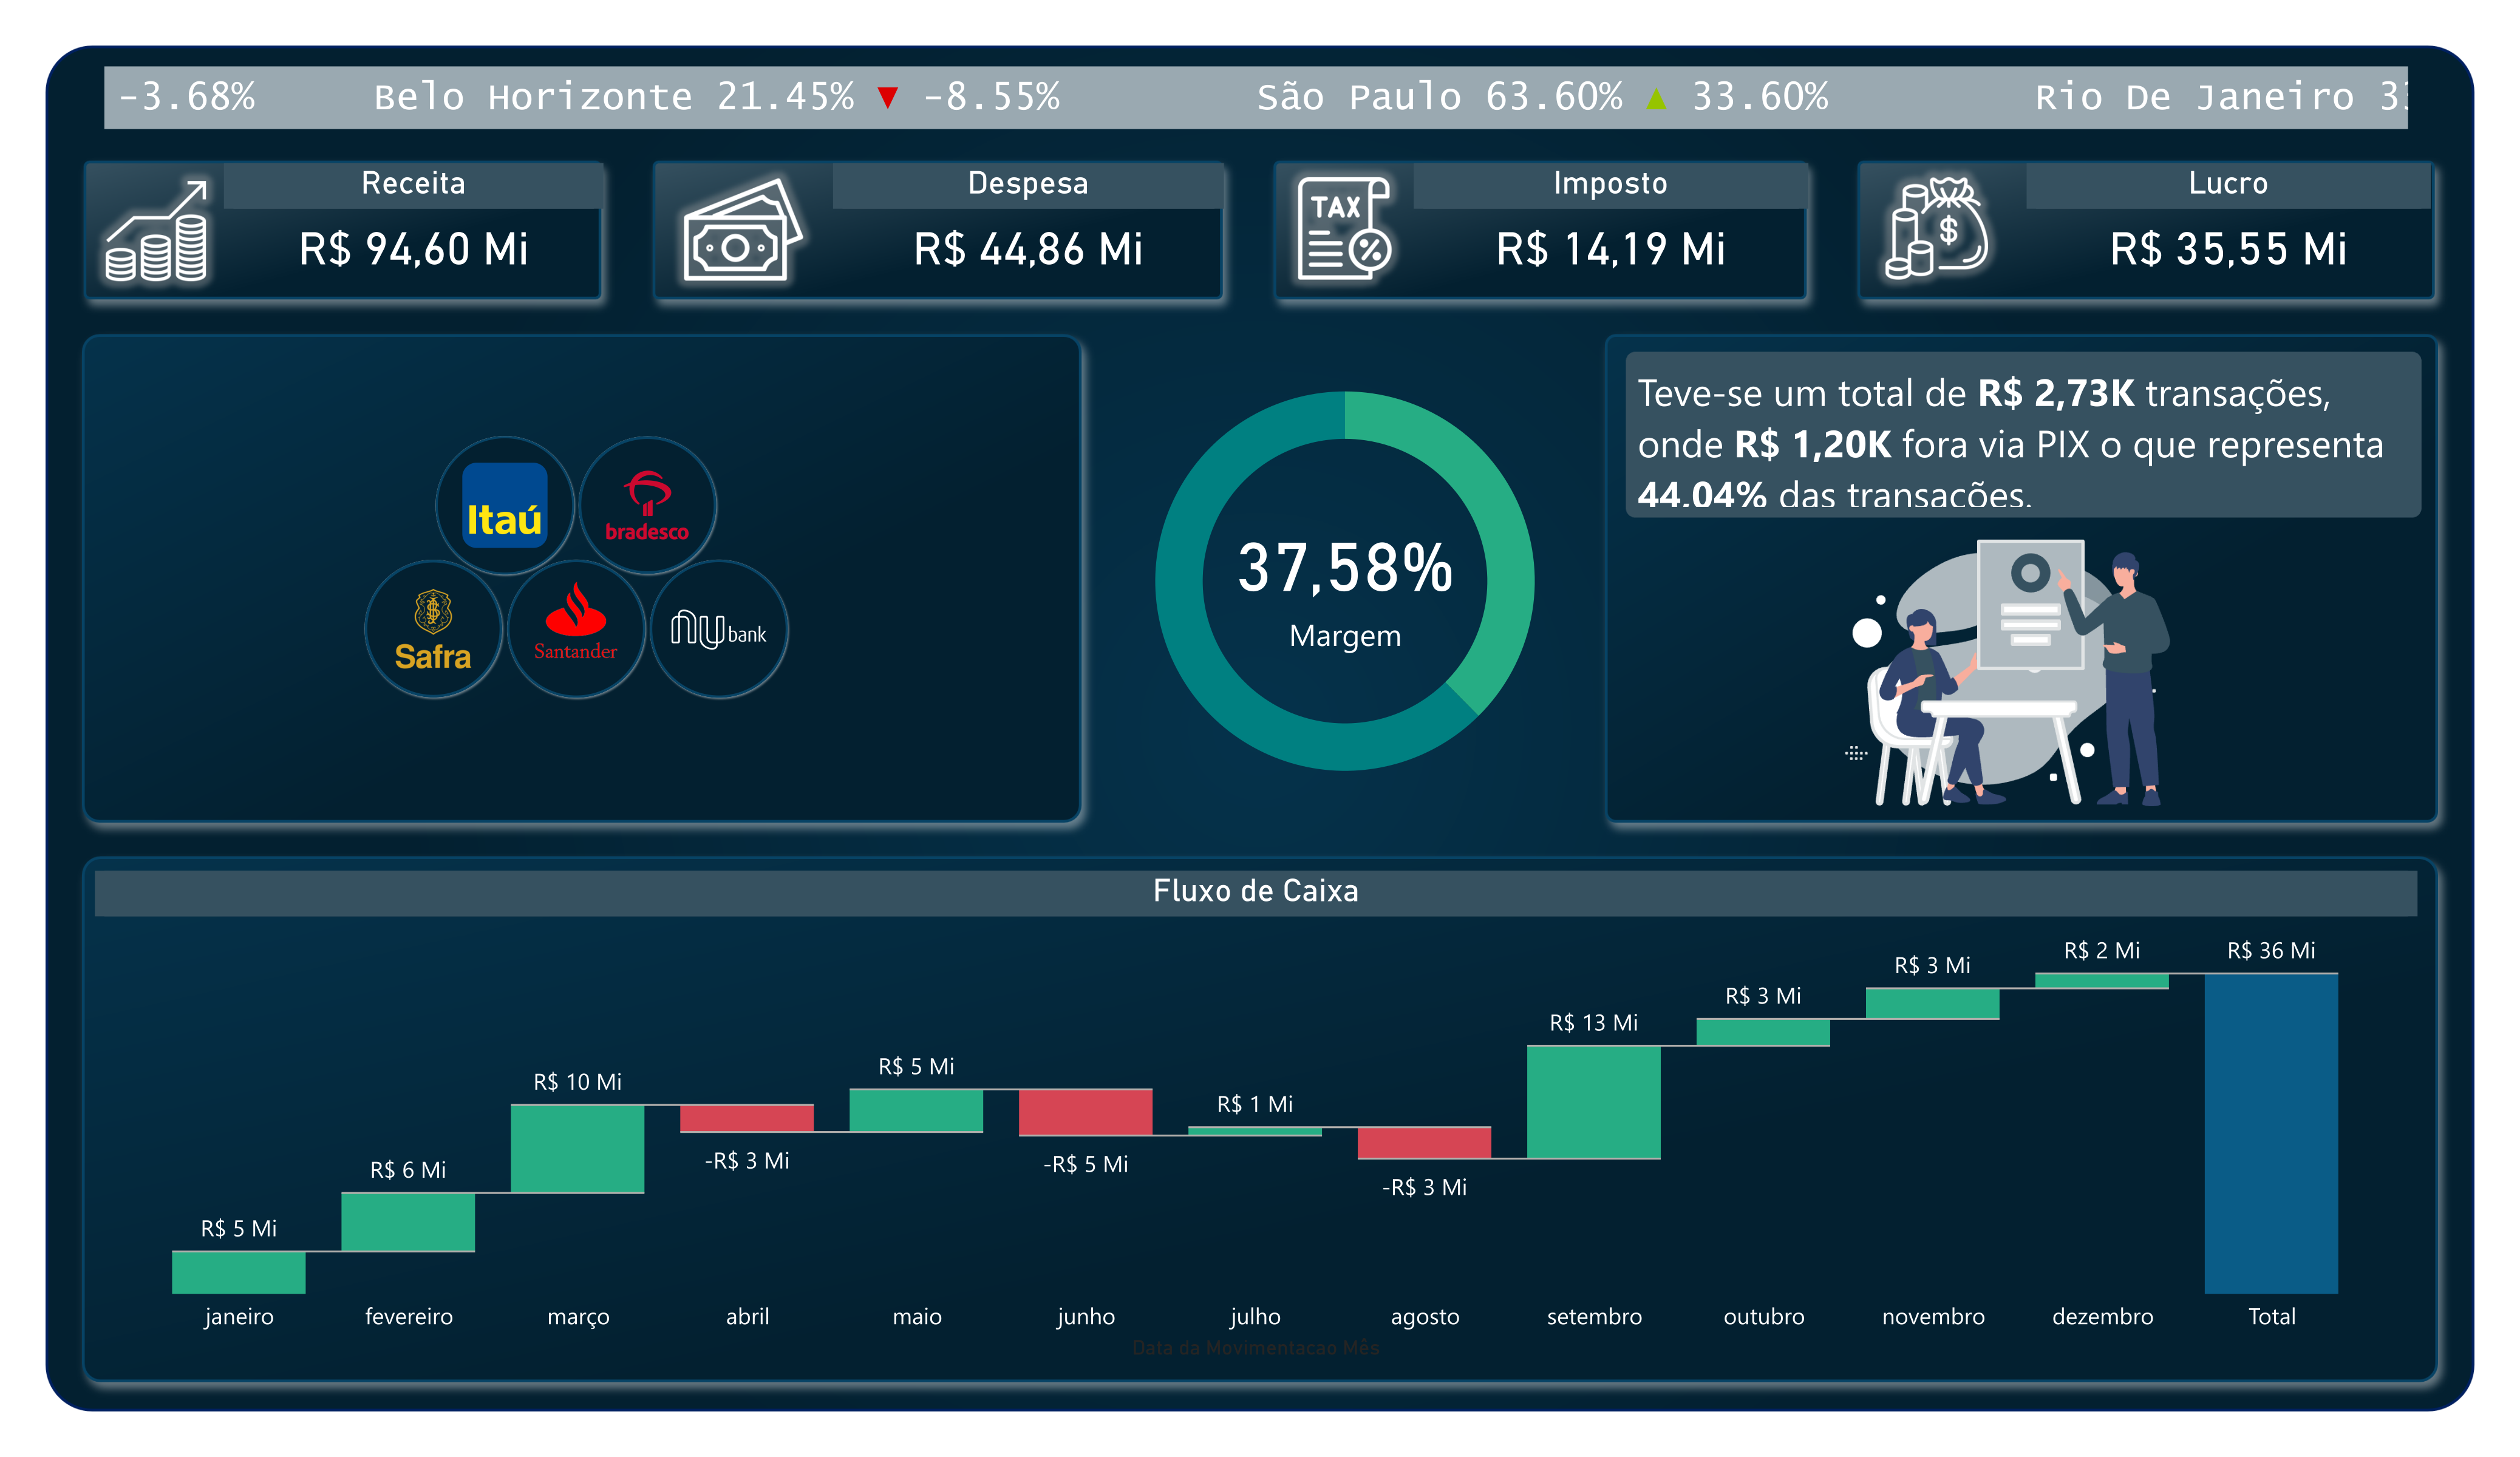

The dashboard page shown, as its layout file describes it:
{"tool":"powerbi","page":{"name":"Página 1","canvas":[1280,720],"ordinal":0},"visuals":[{"type":"card","title":"Receita","fields":{"Values":["Movimentações.Receita"]},"box":[93.6,61.9,200.2,69.1],"z":0},{"type":"card","title":"Despesa","fields":{"Values":["Movimentações.Despesas"]},"box":[414.7,61.9,205.9,69.1],"z":1000},{"type":"card","title":"Imposto","fields":{"Values":["Movimentações.Impostos"]},"box":[721.4,61.9,207.4,69.1],"z":2000},{"type":"card","title":"Lucro","fields":{"Values":["Movimentações.Lucro"]},"box":[1044,61.9,213.1,69.1],"z":3000},{"type":"waterfallChart","title":"Fluxo de Caixa","fields":{"Category":["Movimentações.Data da Movimentacao.Variation.Hierarquia de datas.Mês"],"Y":["Movimentações.Lucro"]},"box":[25.9,434.9,1224,262.1],"z":4000},{"type":"card","title":"Margem de Lucro","fields":{"Values":["Movimentações.Margem"]},"box":[584.6,207.4,200.2,149.8],"z":5000},{"type":"donutChart","fields":{"Y":["Movimentações.Margem","Movimentações.Margem Aux."]},"box":[548.5,151.7,273.6,260.6],"z":6000},{"type":"ImageGrid_FC5183B9_926C_45E0_B5F7_0CE9EAF1DA9B","fields":{"ImageURLHQ":["Movimentações.Banco"]},"box":[25.9,151.2,508.3,249.1],"z":6001},{"type":"enlightenDataStoryDDFB78A6143E42CFAFBC50CCF18D978D","fields":{"measure":["Movimentações.Transações","Movimentações.Transações PIX","Movimentações.Taxa PIX"]},"box":[833.8,162.7,416.2,85],"z":6002},{"type":"ScrollingTextVisual1448795304508","fields":{"Category":["Movimentações.Município"],"Measure Absolute":["Movimentações.Margem"],"Measure Deviation":["Movimentações.Desvio Margem"]},"box":[25.9,5.8,1224,43.2],"z":6003}]}

Visuals, with their boxes on the page's 1280x720 design canvas (x1, y1, x2, y2). These are canvas units, not pixel positions in the 2520x1457 screenshot, which may show the page scaled, cropped or inside an application window:
"Receita" card: [94,62,294,131]
"Despesa" card: [415,62,621,131]
"Imposto" card: [721,62,929,131]
"Lucro" card: [1044,62,1257,131]
"Fluxo de Caixa" waterfallChart: [26,435,1250,697]
"Margem de Lucro" card: [585,207,785,357]
donutChart - Movimentações.Margem x Movimentações.Margem Aux.: [548,152,822,412]
ImageGrid_FC5183B9_926C_45E0_B5F7_0CE9EAF1DA9B - Movimentações.Banco: [26,151,534,400]
enlightenDataStoryDDFB78A6143E42CFAFBC50CCF18D978D - Movimentações.Transações x Movimentações.Transações PIX: [834,163,1250,248]
ScrollingTextVisual1448795304508 - Movimentações.Município x Movimentações.Margem: [26,6,1250,49]
